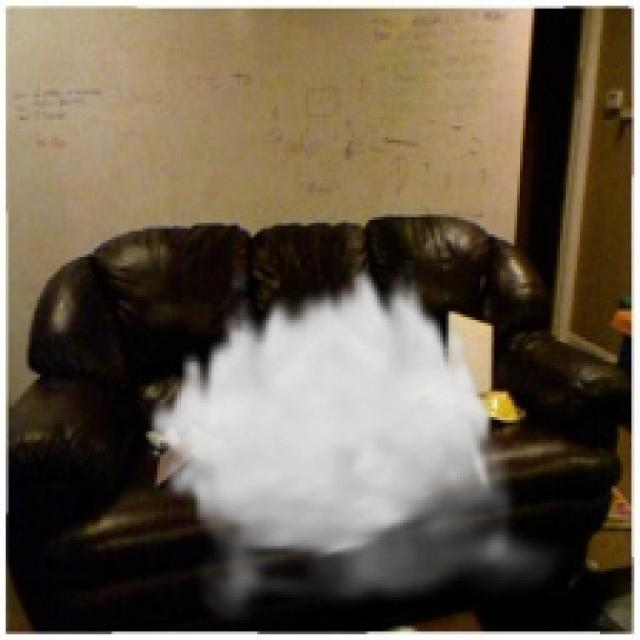smoke: (146, 260, 568, 629)
